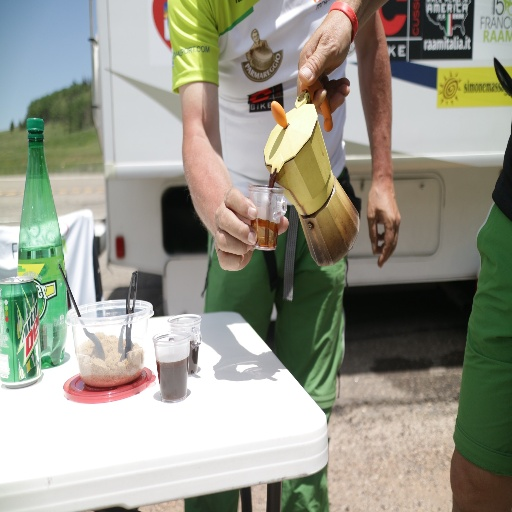hand: (210, 185, 290, 275), (294, 8, 351, 116), (365, 179, 403, 270)
